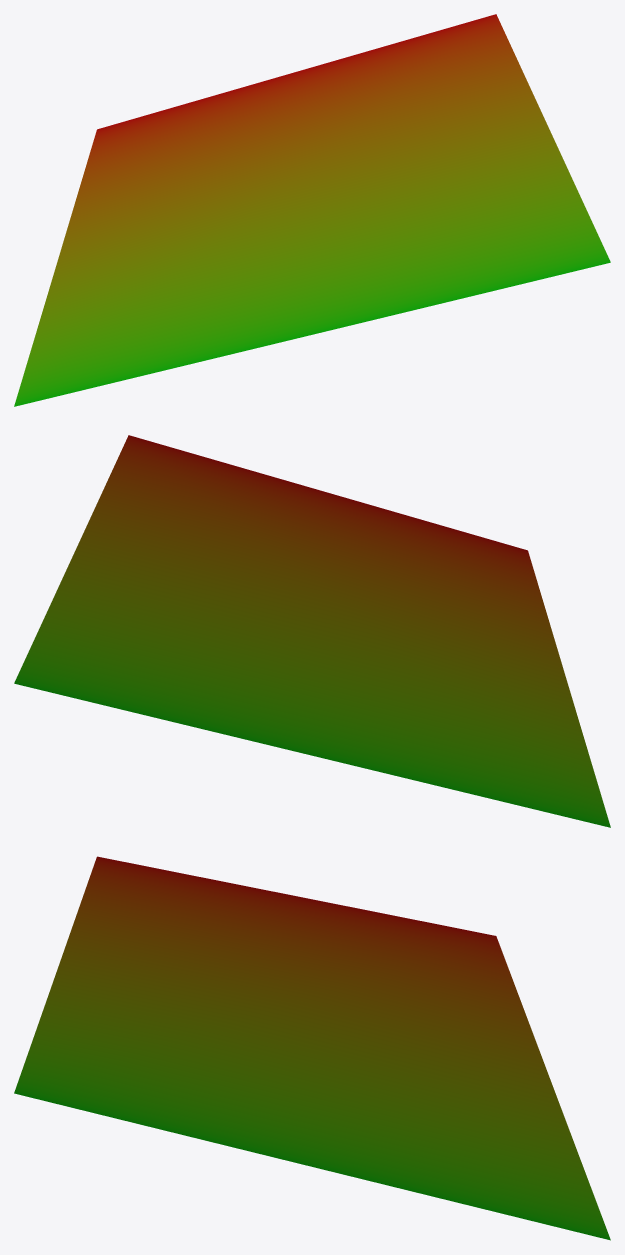
File: Var2_LOD3.fbx
3 renders of one model, top to bottom at view 1: azimuth 30°, elevation 25°; view 2: azimuth 150°, elevation 25°; view 3: azimuth 330°, elevation 25°, orthographic.
Visible parts, largest first — view 1: _v7td_Var2_LOD3; view 2: _v7td_Var2_LOD3; view 3: _v7td_Var2_LOD3.
Part boxes in pixels (bbox=[...]): _v7td_Var2_LOD3: bbox=[14, 14, 610, 406]; _v7td_Var2_LOD3: bbox=[14, 435, 610, 827]; _v7td_Var2_LOD3: bbox=[14, 856, 610, 1240].
Size of the model in its own units: 57.72 by 25.55 by 3.05e-06.
